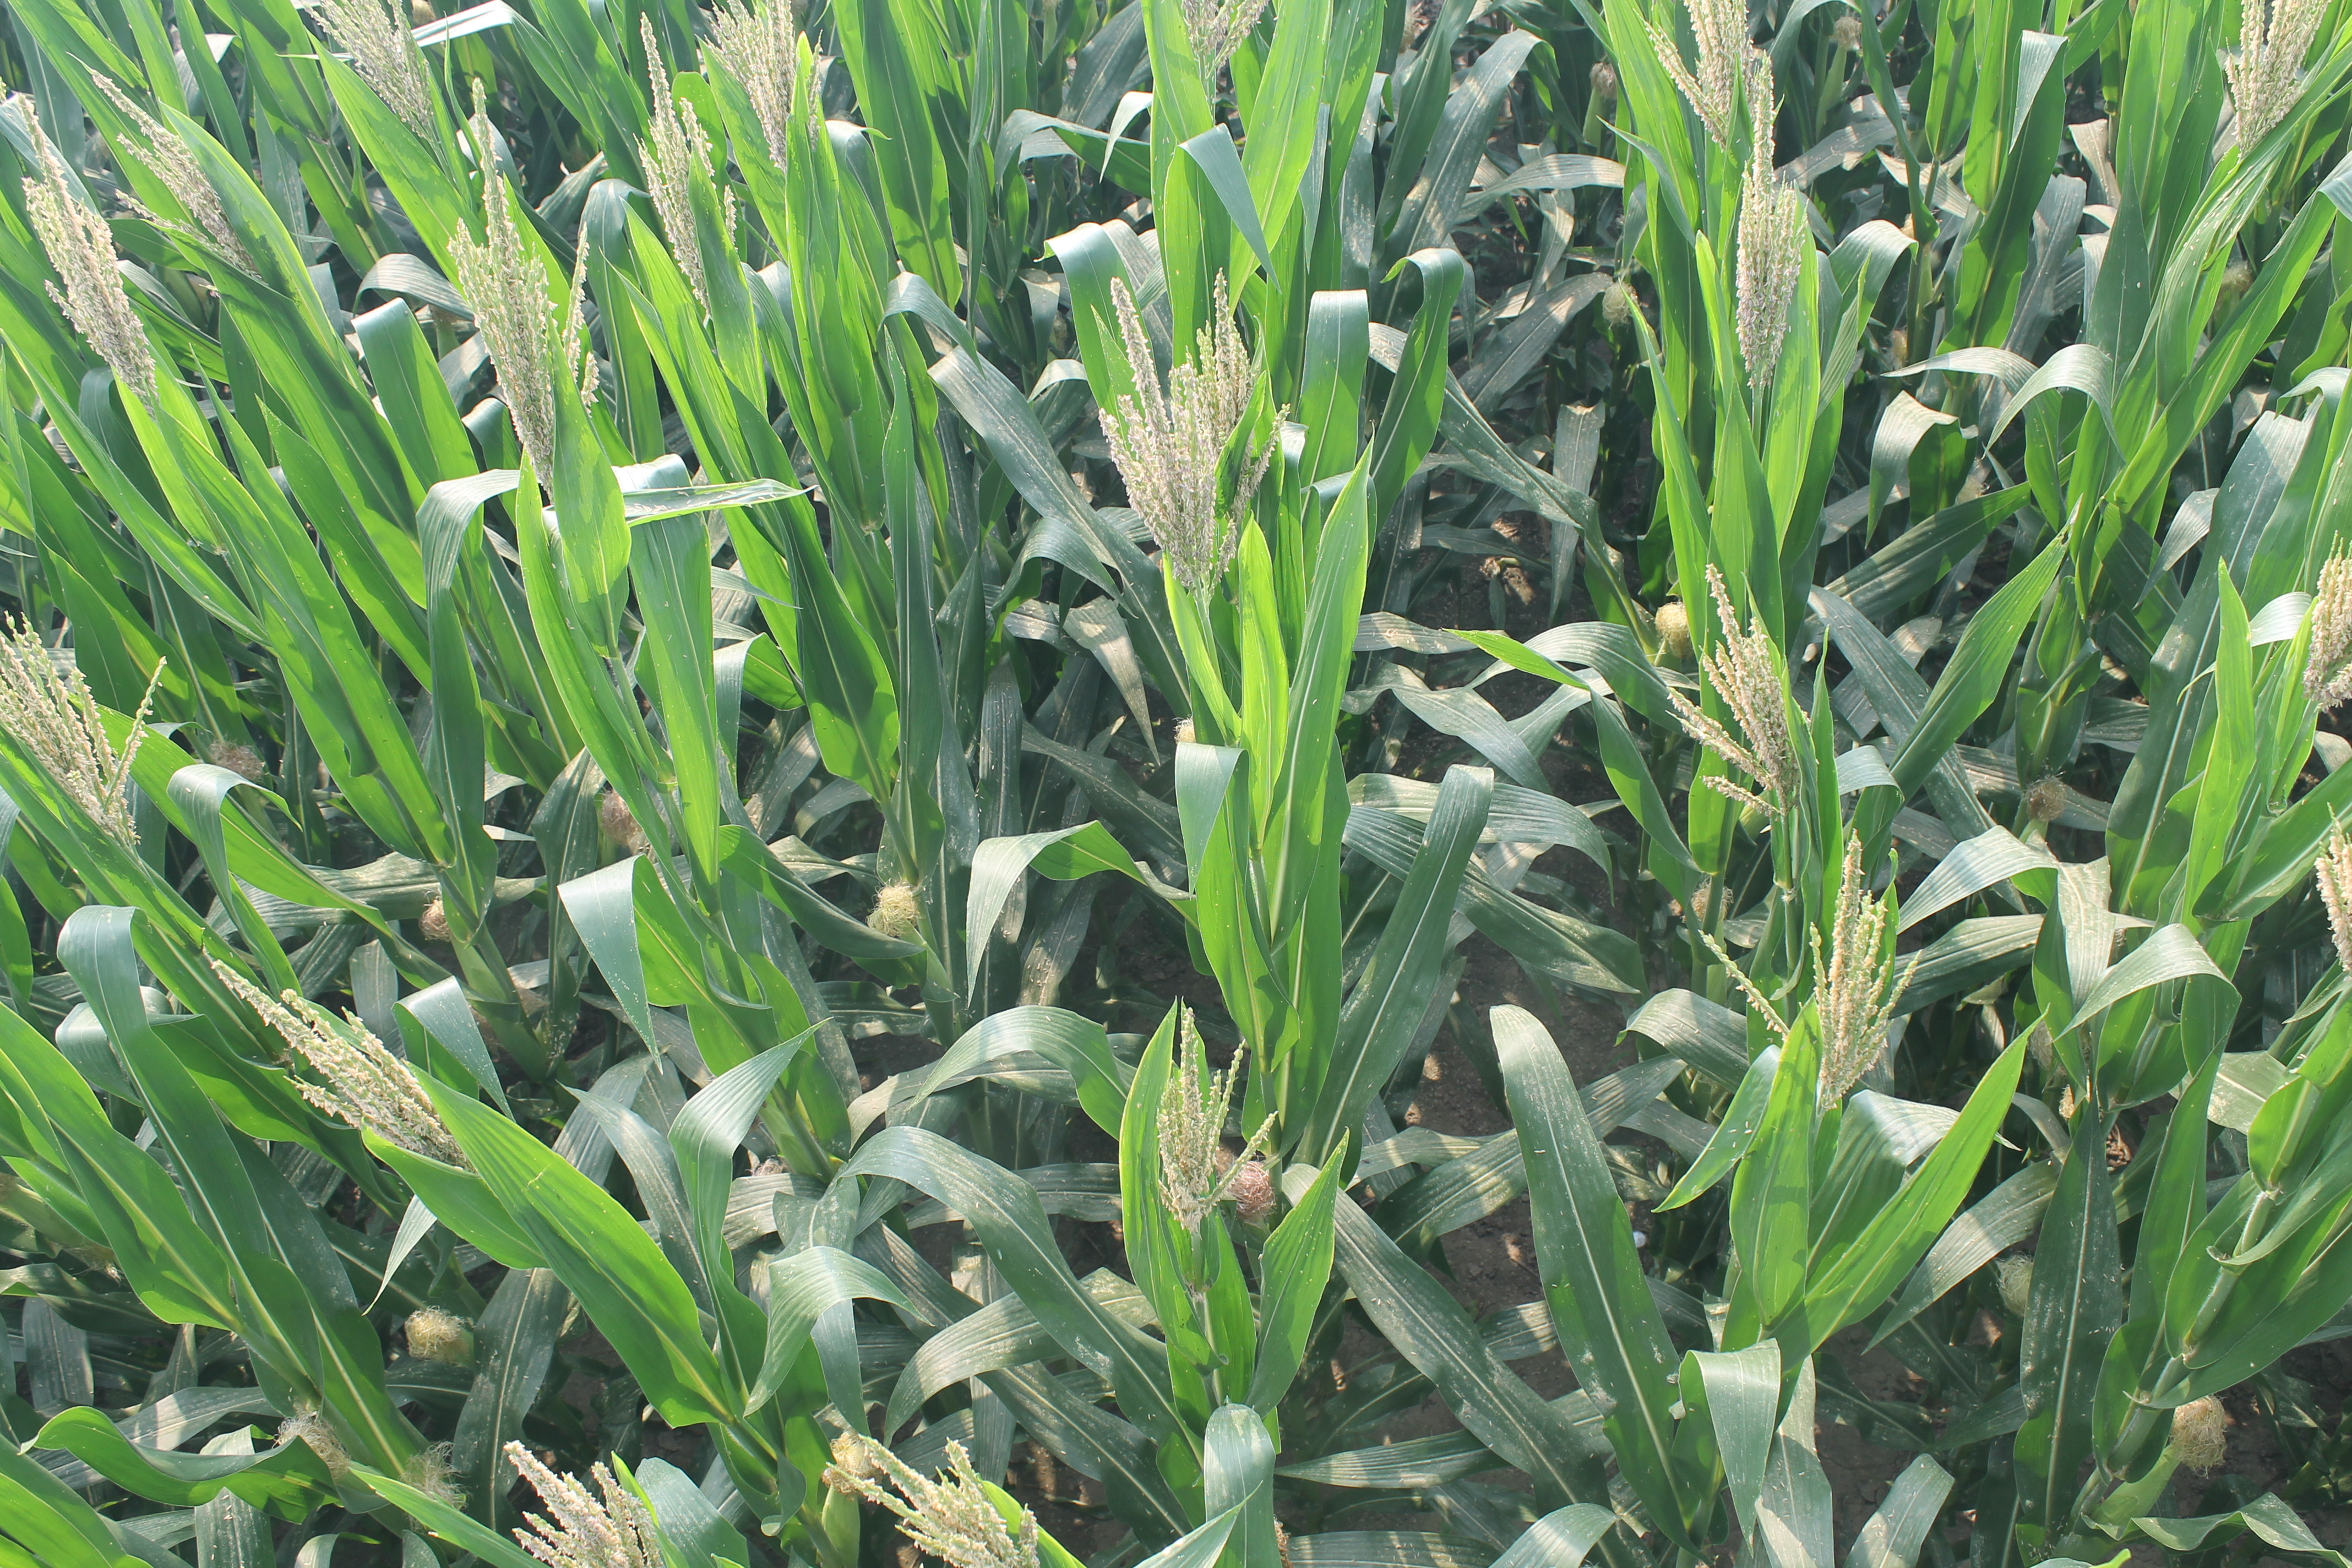Maize: (1064, 259, 1351, 602), (210, 955, 509, 1209), (1724, 843, 1930, 1097), (0, 612, 178, 863), (465, 133, 588, 483), (842, 1419, 1129, 1568), (1141, 1031, 1311, 1265), (1680, 569, 1836, 815), (0, 101, 112, 387), (131, 77, 266, 268), (2201, 0, 2352, 168), (616, 33, 707, 280), (504, 1440, 679, 1568), (1745, 61, 1811, 378), (294, 0, 429, 136), (719, 0, 835, 156), (2280, 521, 2352, 712), (1664, 0, 1739, 149), (2308, 815, 2352, 1031), (1157, 0, 1255, 84)
